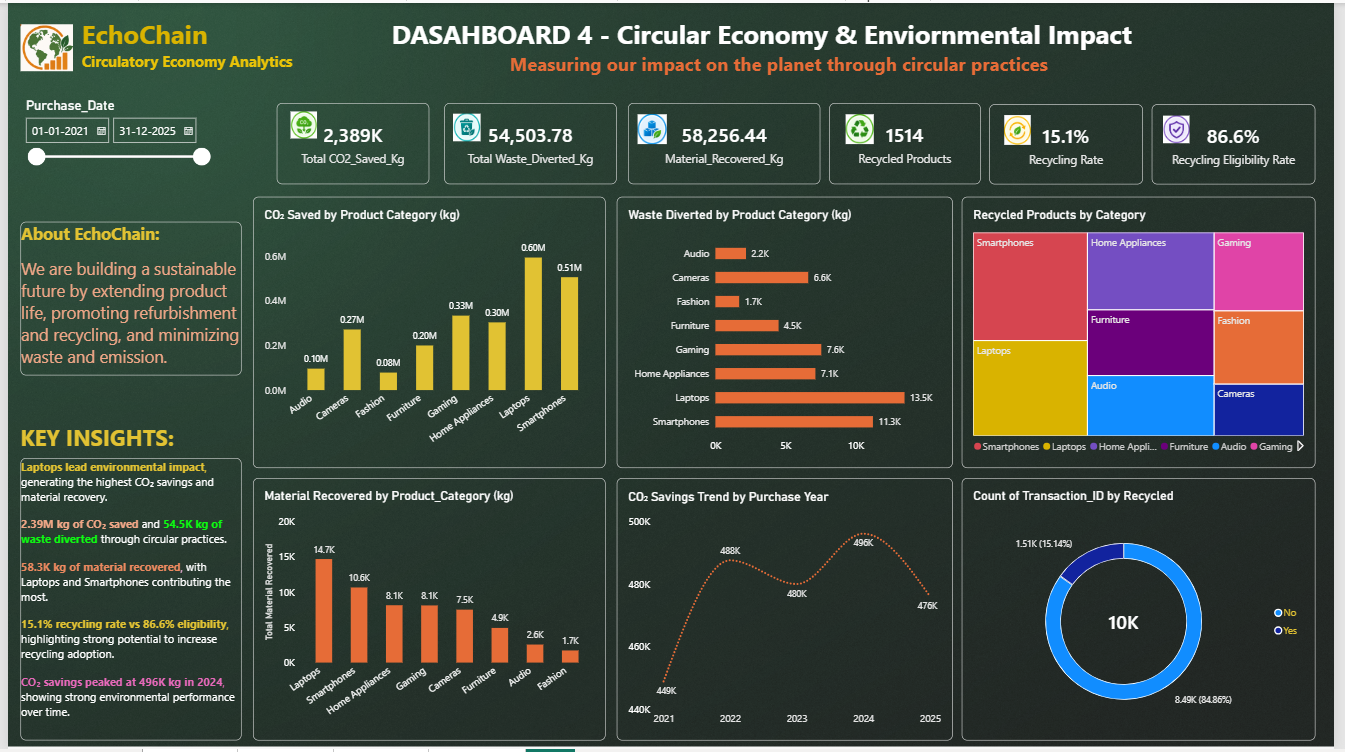

The dashboard page shown, as its layout file describes it:
{"tool":"powerbi","page":{"name":"Page 4","canvas":[1920,1080],"ordinal":3},"visuals":[{"type":"textbox","box":[106.8,19.9,322.1,90.5],"z":0},{"type":"image","box":[18.1,30.8,76,68.8],"z":1000},{"type":"textbox","box":[555.6,19.9,1116.6,105],"z":2000},{"type":"slicer","fields":{"Values":["EchoChain_Data_Cleaned.Purchase_Date"]},"box":[18.1,137.5,278.7,179.2],"z":3000},{"type":"card","fields":{"Values":["Sum(EchoChain_Data_Cleaned.CO2_Saved_Kg)"]},"box":[389.1,144.8,220.8,117.6],"z":3001},{"type":"card","fields":{"Values":["Sum(EchoChain_Data_Cleaned.Waste_Diverted_Kg)"]},"box":[631.6,144.8,249.7,117.6],"z":3002},{"type":"card","fields":{"Values":["Sum(EchoChain_Data_Cleaned.Material_Recovered_Kg)"]},"box":[897.6,144.8,278.7,117.6],"z":3003},{"type":"card","fields":{"Values":["EchoChain_Data_Cleaned.Recycled Products"]},"box":[1188.9,144.8,219,117.6],"z":3004},{"type":"card","fields":{"Values":["EchoChain_Data_Cleaned.Recycling Rate"]},"box":[1420.6,146.6,222.6,115.8],"z":3005},{"type":"card","fields":{"Values":["EchoChain_Data_Cleaned.Recycling Eligibility Rate"]},"box":[1655.8,146.6,237.1,115.8],"z":3006},{"type":"columnChart","title":"CO₂ Saved by Product Category (kg)","fields":{"Category":["EchoChain_Data_Cleaned.Product_Category"],"Y":["EchoChain_Data_Cleaned.Total CO2 Saved"]},"box":[354.7,280.5,510.3,392.7],"z":3007},{"type":"clusteredBarChart","title":"Waste Diverted by Product Category (kg)","fields":{"Category":["EchoChain_Data_Cleaned.Product_Category"],"Y":["EchoChain_Data_Cleaned.Total Waste Diverted"]},"box":[881.3,280.5,486.8,392.7],"z":3008},{"type":"treemap","title":"Recycled Products by Category","fields":{"Group":["EchoChain_Data_Cleaned.Product_Category"],"Values":["EchoChain_Data_Cleaned.Recycled Products"]},"box":[1380.8,280.5,512.1,392.7],"z":3009},{"type":"clusteredColumnChart","title":"Material Recovered by Product_Category (kg)","fields":{"Category":["EchoChain_Data_Cleaned.Product_Category"],"Y":["EchoChain_Data_Cleaned.Total Material Recovered"]},"box":[354.7,687.7,510.3,380],"z":3010},{"type":"lineChart","title":"CO₂ Savings Trend by Purchase Year","fields":{"Category":["EchoChain_Data_Cleaned.Purchase_Date.Variation.Date Hierarchy.Year"],"Y":["EchoChain_Data_Cleaned.Total CO2 Saved"]},"box":[881.3,687.7,486.8,380],"z":3011},{"type":"donutChart","fields":{"Category":["EchoChain_Data_Cleaned.Recycled"],"Y":["CountNonNull(EchoChain_Data_Cleaned.Transaction_ID)"]},"box":[1380.8,687.7,512.1,380],"z":3012},{"type":"image","box":[409,146.6,38,59.7],"z":3013},{"type":"image","box":[1442.3,157.4,38,52.5],"z":3014},{"type":"image","box":[1672.1,157.4,38,50.7],"z":3015},{"type":"image","box":[906.6,161.1,52.5,43.4],"z":3016},{"type":"image","box":[1207,161.1,52.5,43.4],"z":3017},{"type":"image","box":[644.2,153.8,39.8,52.5],"z":3018},{"type":"textbox","box":[18.1,316.7,320.3,222.6],"z":3019},{"type":"textbox","box":[18.1,606.2,320.3,52.5],"z":3020},{"type":"textbox","box":[18.1,658.7,320.3,409],"z":3021}]}

Visuals, with their boxes in screenshot pixels (x1, y1, x2, y2), scaled from the page's 1920x1080 canvas onto the 1345x752 screenshot:
textbox: x1=75 y1=14 x2=300 y2=77
image: x1=13 y1=21 x2=66 y2=69
textbox: x1=389 y1=14 x2=1171 y2=87
slicer - EchoChain_Data_Cleaned.Purchase_Date: x1=13 y1=96 x2=208 y2=221
card - Sum(EchoChain_Data_Cleaned.CO2_Saved_Kg): x1=273 y1=101 x2=427 y2=183
card - Sum(EchoChain_Data_Cleaned.Waste_Diverted_Kg): x1=442 y1=101 x2=617 y2=183
card - Sum(EchoChain_Data_Cleaned.Material_Recovered_Kg): x1=629 y1=101 x2=824 y2=183
card - EchoChain_Data_Cleaned.Recycled Products: x1=833 y1=101 x2=986 y2=183
card - EchoChain_Data_Cleaned.Recycling Rate: x1=995 y1=102 x2=1151 y2=183
card - EchoChain_Data_Cleaned.Recycling Eligibility Rate: x1=1160 y1=102 x2=1326 y2=183
"CO₂ Saved by Product Category (kg)" columnChart: x1=248 y1=195 x2=606 y2=469
"Waste Diverted by Product Category (kg)" clusteredBarChart: x1=617 y1=195 x2=958 y2=469
"Recycled Products by Category" treemap: x1=967 y1=195 x2=1326 y2=469
"Material Recovered by Product_Category (kg)" clusteredColumnChart: x1=248 y1=479 x2=606 y2=743
"CO₂ Savings Trend by Purchase Year" lineChart: x1=617 y1=479 x2=958 y2=743
donutChart - EchoChain_Data_Cleaned.Recycled x CountNonNull(EchoChain_Data_Cleaned.Transaction_ID): x1=967 y1=479 x2=1326 y2=743
image: x1=287 y1=102 x2=313 y2=144
image: x1=1010 y1=110 x2=1037 y2=146
image: x1=1171 y1=110 x2=1198 y2=145
image: x1=635 y1=112 x2=672 y2=142
image: x1=846 y1=112 x2=882 y2=142
image: x1=451 y1=107 x2=479 y2=144
textbox: x1=13 y1=221 x2=237 y2=376
textbox: x1=13 y1=422 x2=237 y2=459
textbox: x1=13 y1=459 x2=237 y2=743
